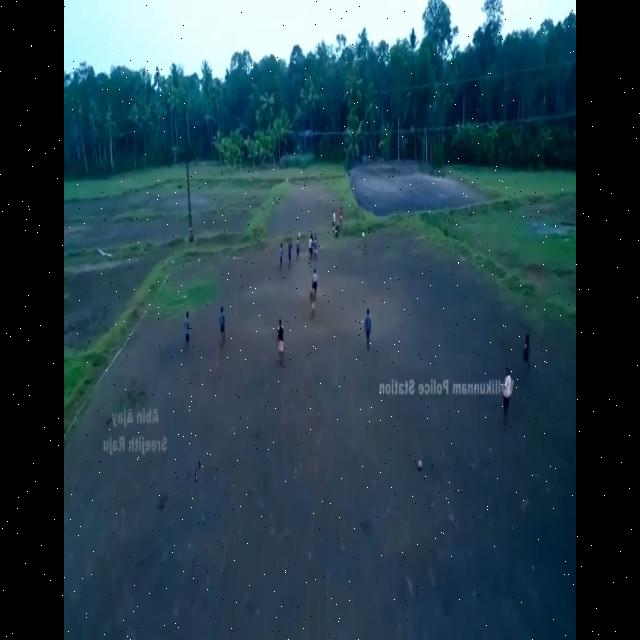humans: (496, 365, 514, 427), (518, 321, 534, 378), (362, 301, 374, 355), (276, 313, 287, 370), (216, 305, 227, 351), (180, 307, 191, 352), (308, 282, 316, 324), (310, 260, 320, 290), (286, 236, 294, 271), (294, 229, 302, 262), (330, 206, 338, 238), (312, 232, 319, 264), (337, 200, 344, 232), (278, 240, 284, 272), (307, 234, 313, 264)
